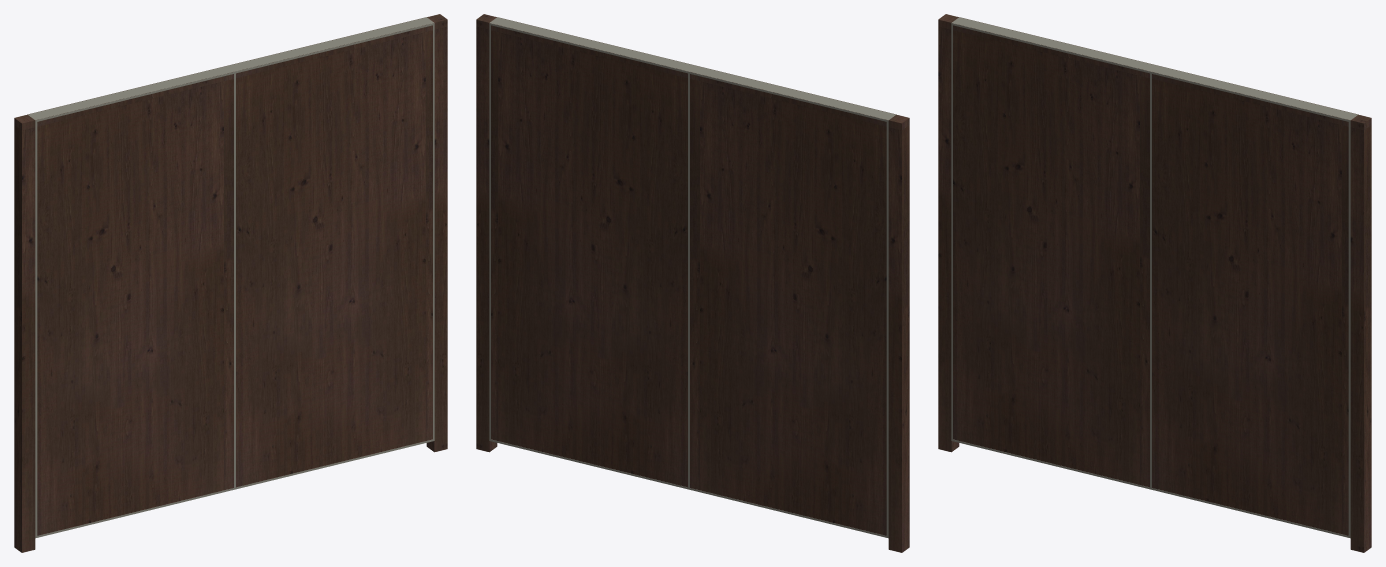
File: ABF5-H1800_darkpine.fbx
The picture shows the model from 3 angles, left to right: view 1: azimuth 30°, elevation 25°; view 2: azimuth 150°, elevation 25°; view 3: azimuth 330°, elevation 25°; orthographic projection.
Visible parts, largest first — view 1: ABF5-H1800_dark pine; view 2: ABF5-H1800_dark pine; view 3: ABF5-H1800_dark pine.
Part boxes in pixels (left/top/right/bottom): ABF5-H1800_dark pine: left=14, top=14, right=447, bottom=552; ABF5-H1800_dark pine: left=476, top=14, right=909, bottom=552; ABF5-H1800_dark pine: left=938, top=14, right=1371, bottom=552.
Size of the model in its own units: 192 by 185 by 6.4.
4 materials, 3 textured.
